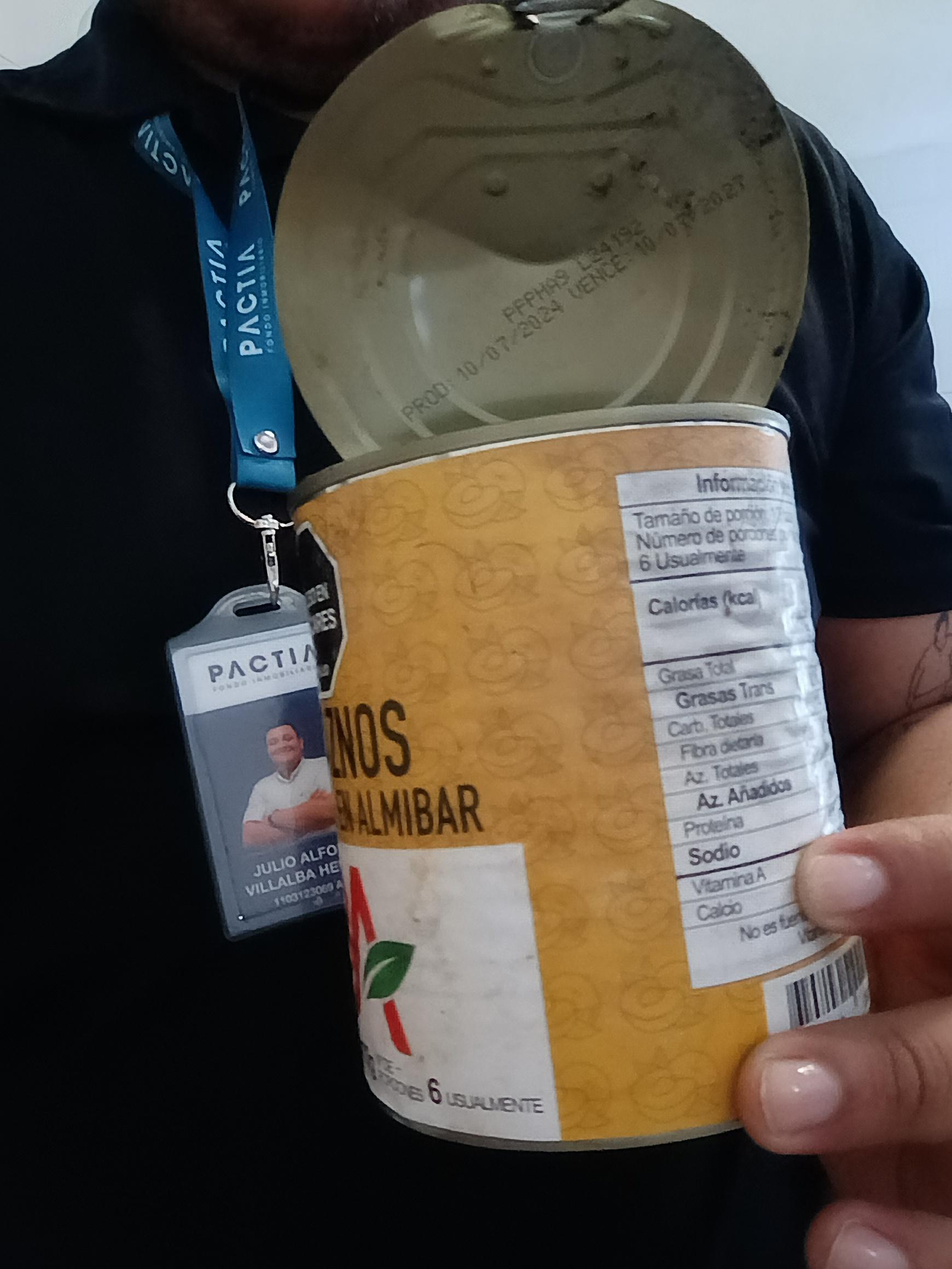Metal: (289, 0, 864, 1152)
